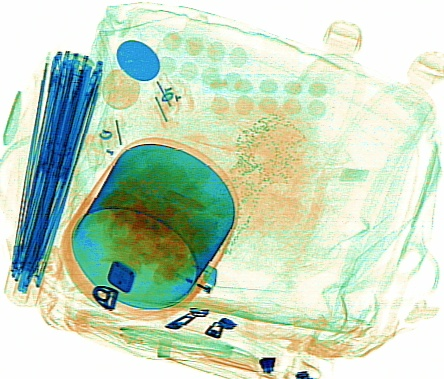lighter: (127, 232, 217, 295)
